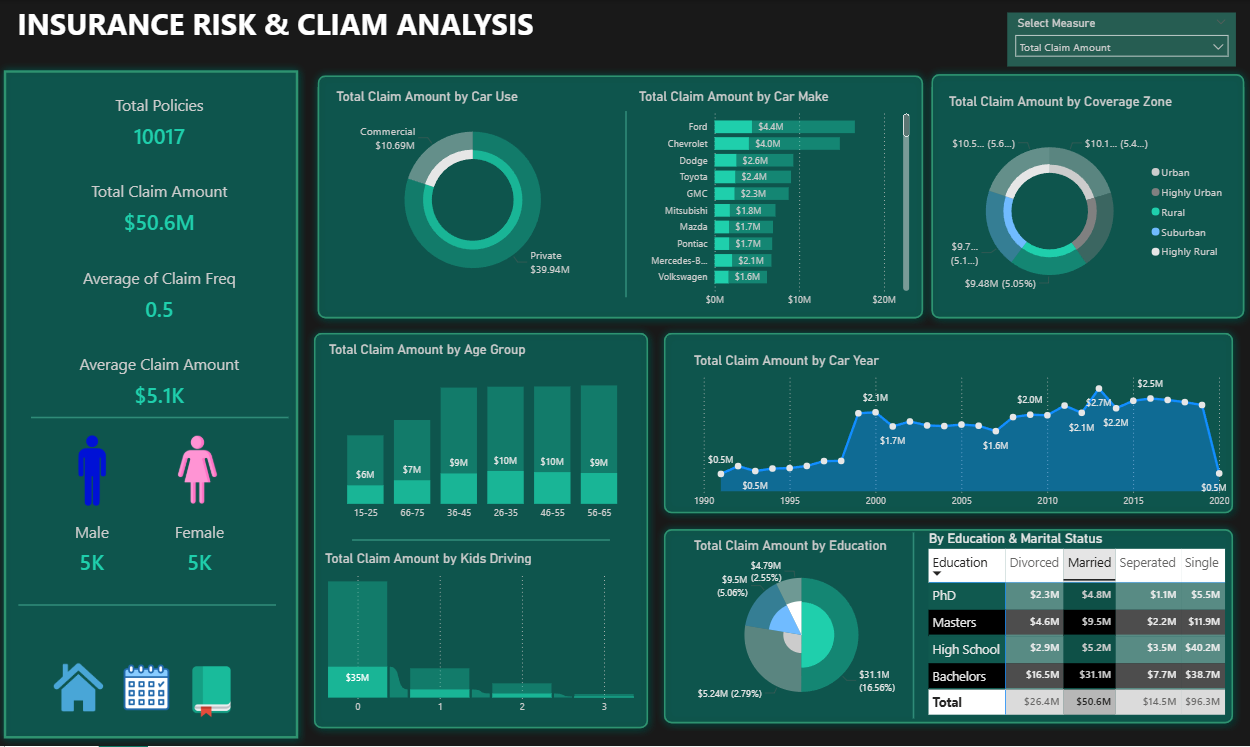

What the dashboard file says about the page in this screenshot:
{"tool":"powerbi","page":{"name":"Page 1","canvas":[1600,950],"ordinal":0},"visuals":[{"type":"textbox","box":[22.3,0,789,66.9],"z":1000},{"type":"shape","box":[840.5,663.8,745,267.4],"z":1500},{"type":"shape","box":[0,79.6,394.8,870.7],"z":2000},{"type":"cardVisual","fields":{"Data":["insurance_data_car.Total Policies","insurance_data_car.Total Claim Amount","Avg(insurance_data_car.Claim Freq)","insurance_data_car.Average Claim Amount"]},"box":[70.3,99.5,276.2,442.5],"z":3000},{"type":"cardVisual","fields":{"Data":["insurance_data_car.Male Count","insurance_data_car.Female Count"]},"box":[53.2,646.7,276.2,97.8],"z":4000},{"type":"image","box":[70.3,542,104.6,113.2],"z":5000},{"type":"image","box":[209.3,531.7,96.1,132.1],"z":6000},{"type":"slicer","fields":{"Values":["Select Measure.Select Measure"]},"box":[1288.2,15.4,291.6,68.6],"z":7000},{"type":"shape","box":[399.5,86,791.1,329.5],"z":8000},{"type":"donutChart","fields":{"Category":["insurance_data_car.Car Use"],"Y":["insurance_data_car.Total Claim Amount"]},"box":[428.2,113,358.2,264.2],"z":9000},{"type":"clusteredBarChart","fields":{"Category":["insurance_data_car.Car Make"],"Y":["insurance_data_car.Total Claim Amount"]},"box":[813.4,113,355,286.5],"z":10000},{"type":"shape","box":[791.1,141.7,22.3,237.2],"z":11000},{"type":"shape","box":[1181.1,84.4,418.7,331.1],"z":12000},{"type":"donutChart","fields":{"Y":["insurance_data_car.Total Claim Amount"],"Category":["insurance_data_car.Coverage Zone"]},"box":[1208.2,119.4,367.7,280.2],"z":13000},{"type":"shape","box":[394.8,413.9,445.7,523.7],"z":14000},{"type":"clusteredColumnChart","fields":{"Category":["insurance_data_car.Age Group"],"Y":["insurance_data_car.Total Claim Amount"]},"box":[418.7,434.6,402.7,237.2],"z":15000},{"type":"ribbonChart","fields":{"Category":["insurance_data_car.Kids Driving"],"Y":["insurance_data_car.Total Claim Amount"]},"box":[413.9,700.4,407.5,218.1],"z":16000},{"type":"shape","box":[840.5,413.9,745,249.9],"z":17000},{"type":"pieChart","fields":{"Category":["insurance_data_car.Education"],"Y":["insurance_data_car.Total Claim Amount"]},"box":[883.5,684.5,284.9,229.2],"z":18000},{"type":"areaChart","fields":{"Category":["insurance_data_car.Car Year"],"Y":["insurance_data_car.Total Claim Amount"]},"box":[883.5,448.9,692.4,206.9],"z":19000},{"type":"pivotTable","title":"By Education & Marital Status ","fields":{"Rows":["insurance_data_car.Education"],"Columns":["insurance_data_car.Marital Status"],"Values":["insurance_data_car.Total Claim Amount"]},"box":[1182.7,674.9,393.2,246.7],"z":19001},{"type":"image","box":[52.5,832.5,86,81.2],"z":19002},{"type":"image","box":[157.6,837.3,50.9,68.4],"z":19003},{"type":"image","box":[232.4,845.3,71.6,60.5],"z":19004},{"type":"shape","box":[1157.3,678.1,22.3,237.2],"z":19005},{"type":"shape","box":[28.7,757.7,327.9,25.5],"z":19006},{"type":"shape","box":[44.6,518.9,327.9,25.5],"z":19007},{"type":"shape","box":[453.7,674.9,327.9,25.5],"z":19008}]}

Visuals, with their boxes in screenshot pixels (x1, y1, x2, y2), scaled from the page's 1600x950 canvas onto the 1250x747 screenshot:
textbox: select_region(17, 0, 634, 53)
shape: select_region(657, 522, 1239, 732)
shape: select_region(0, 63, 308, 746)
cardVisual - insurance_data_car.Total Policies x insurance_data_car.Total Claim Amount: select_region(55, 78, 271, 426)
cardVisual - insurance_data_car.Male Count x insurance_data_car.Female Count: select_region(42, 509, 257, 585)
image: select_region(55, 426, 137, 515)
image: select_region(164, 418, 239, 522)
slicer - Select Measure.Select Measure: select_region(1006, 12, 1234, 66)
shape: select_region(312, 68, 930, 327)
donutChart - insurance_data_car.Car Use x insurance_data_car.Total Claim Amount: select_region(335, 89, 614, 297)
clusteredBarChart - insurance_data_car.Car Make x insurance_data_car.Total Claim Amount: select_region(635, 89, 913, 314)
shape: select_region(618, 111, 635, 298)
shape: select_region(923, 66, 1249, 327)
donutChart - insurance_data_car.Total Claim Amount x insurance_data_car.Coverage Zone: select_region(944, 94, 1231, 314)
shape: select_region(308, 325, 657, 737)
clusteredColumnChart - insurance_data_car.Age Group x insurance_data_car.Total Claim Amount: select_region(327, 342, 642, 528)
ribbonChart - insurance_data_car.Kids Driving x insurance_data_car.Total Claim Amount: select_region(323, 551, 642, 722)
shape: select_region(657, 325, 1239, 522)
pieChart - insurance_data_car.Education x insurance_data_car.Total Claim Amount: select_region(690, 538, 913, 718)
areaChart - insurance_data_car.Car Year x insurance_data_car.Total Claim Amount: select_region(690, 353, 1231, 516)
"By Education & Marital Status " pivotTable: select_region(924, 531, 1231, 725)
image: select_region(41, 655, 108, 718)
image: select_region(123, 658, 163, 712)
image: select_region(182, 665, 238, 712)
shape: select_region(904, 533, 922, 720)
shape: select_region(22, 596, 279, 616)
shape: select_region(35, 408, 291, 428)
shape: select_region(354, 531, 611, 551)
